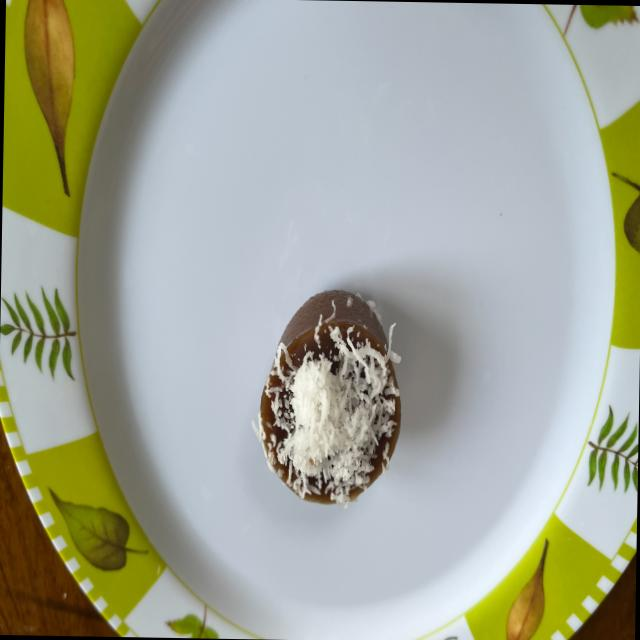Kuih lompang: (253, 289, 400, 505)
